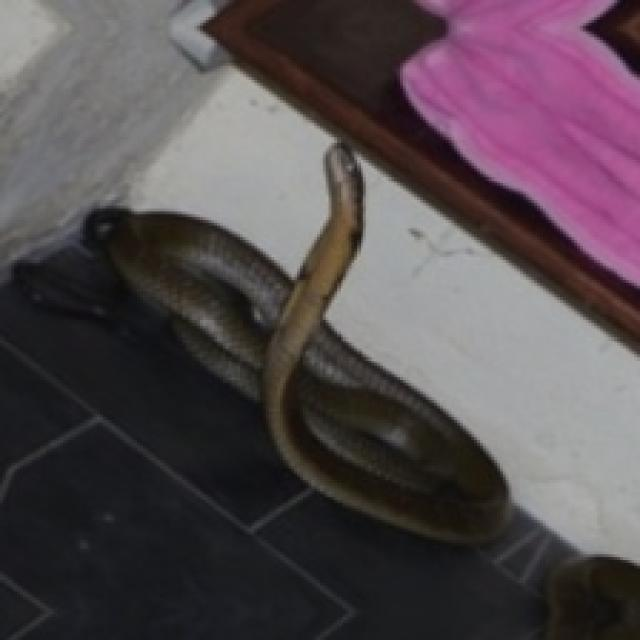king cobra: (86, 143, 509, 543), (543, 557, 637, 637)
